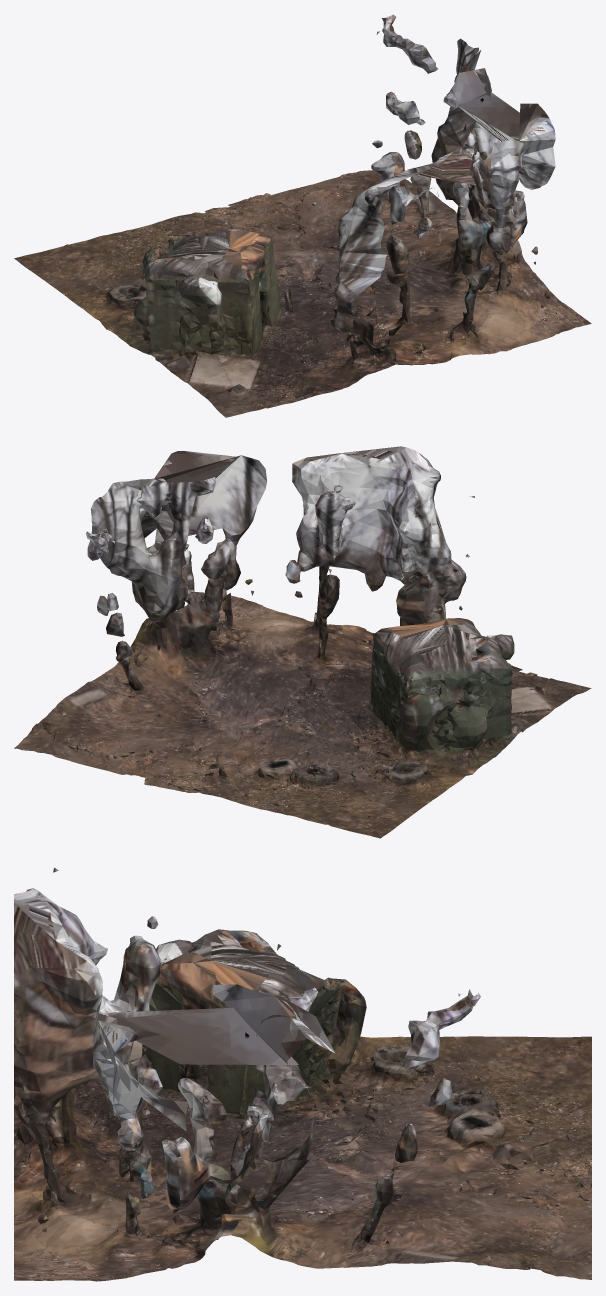
The picture shows the model from 3 angles, top to bottom: view 1: azimuth 30°, elevation 25°; view 2: azimuth 150°, elevation 25°; view 3: azimuth 270°, elevation 25°; orthographic projection. The views are drawn at different scales.
Size of the model in its own units: 10.44 by 5.47 by 10.44.
Materials: 7 (7 with a texture image).
